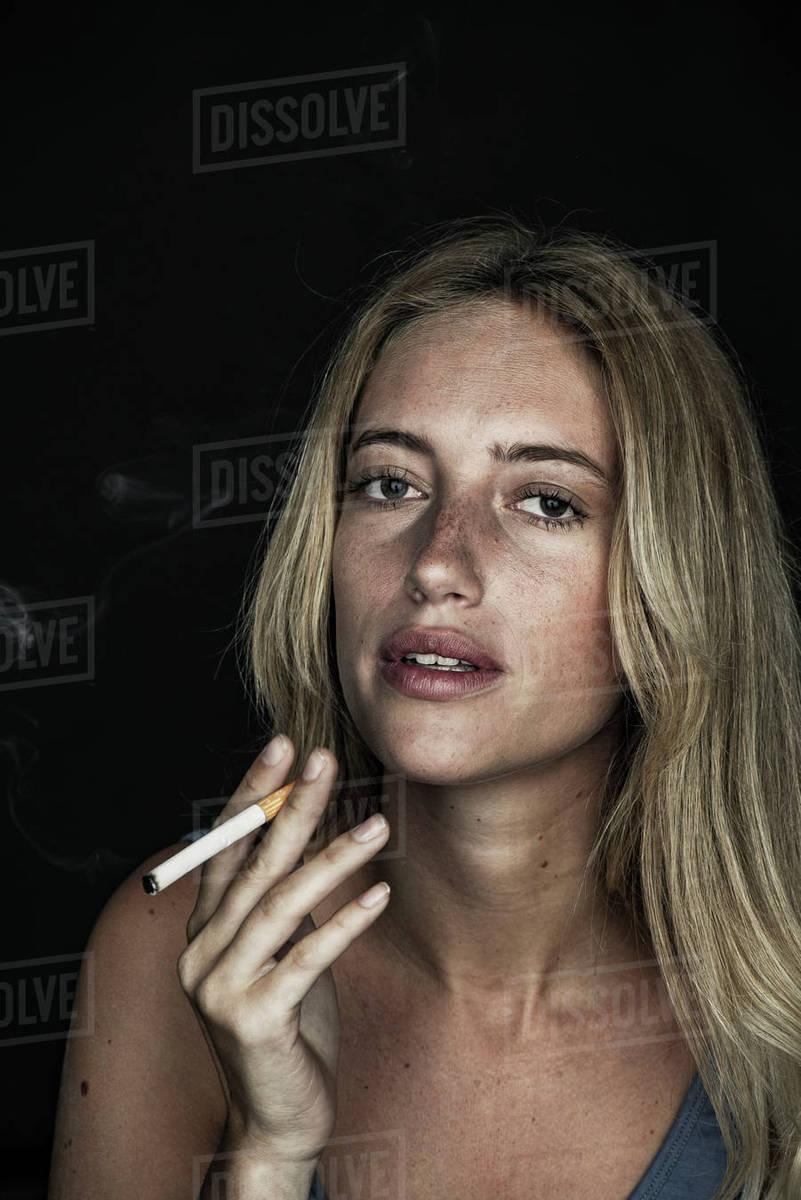cigarette: (141, 780, 296, 893)
